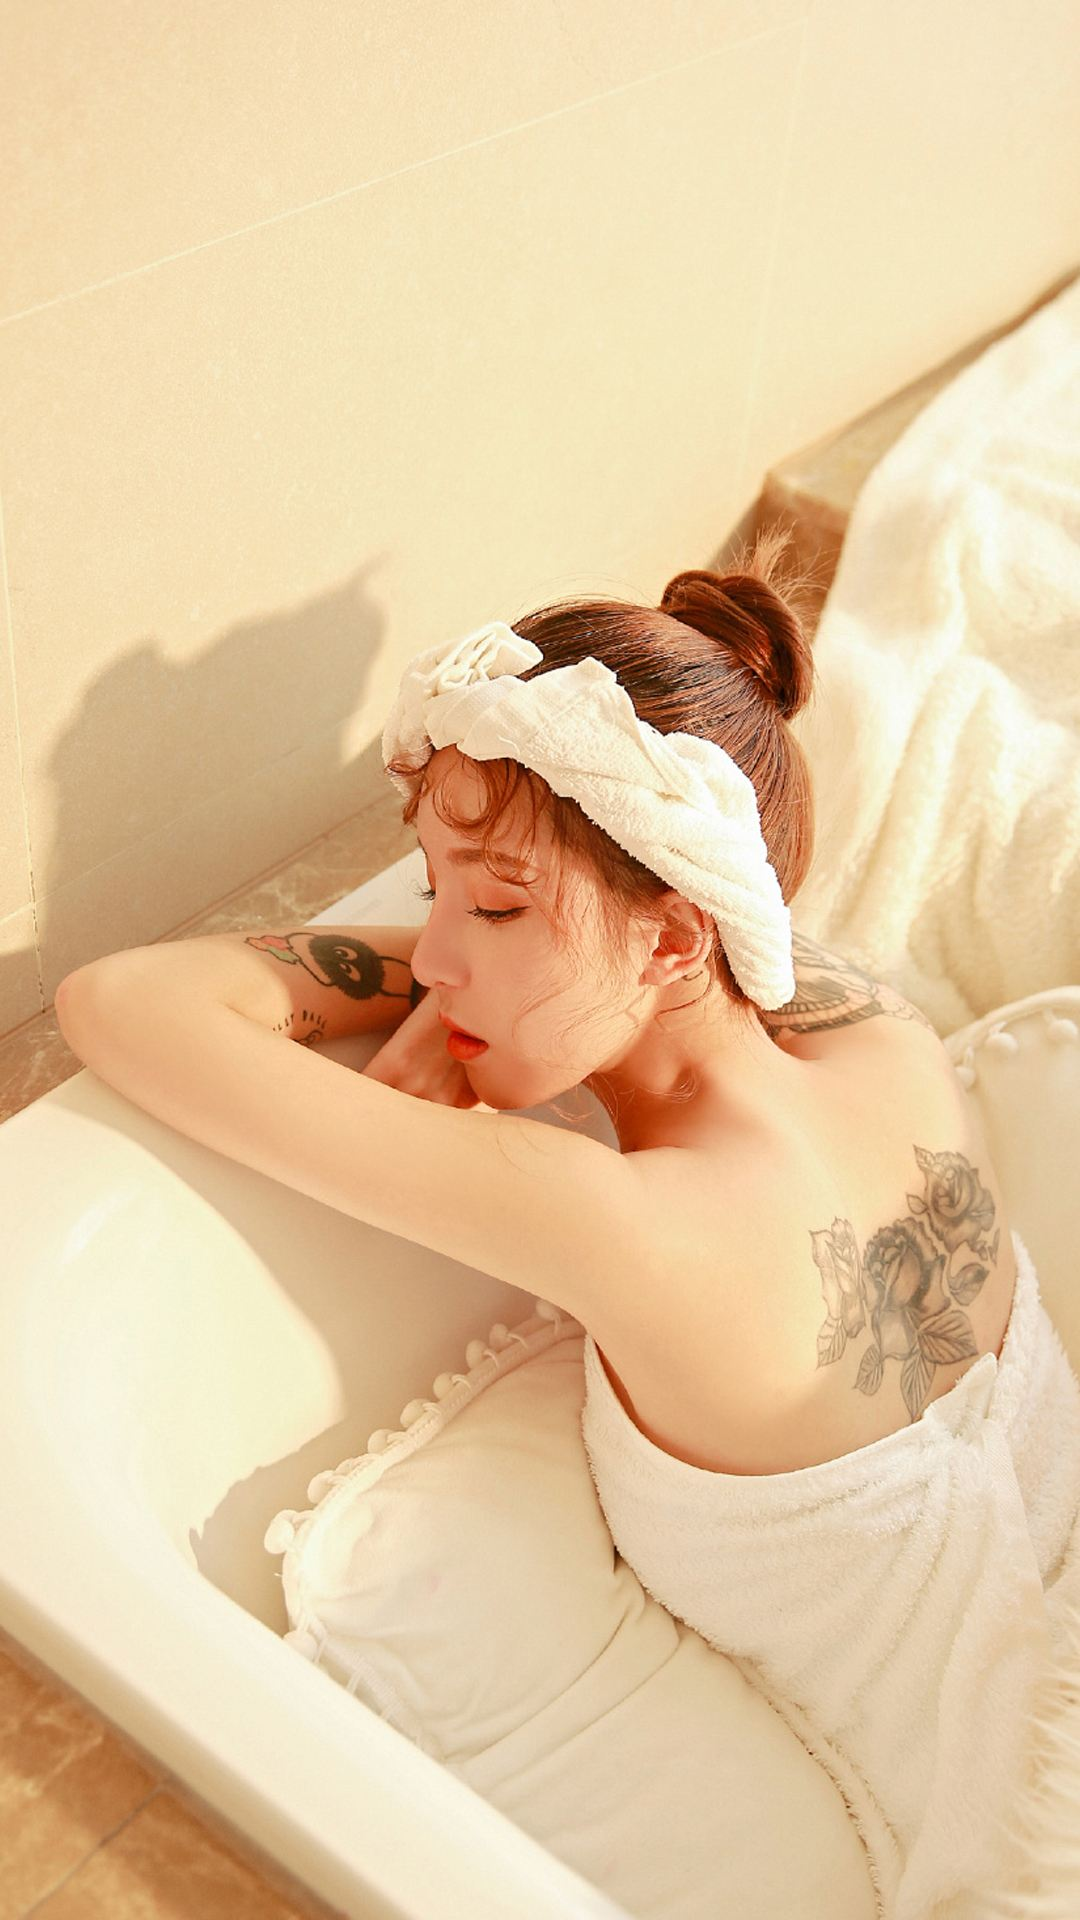person: (277, 506, 1040, 1886)
